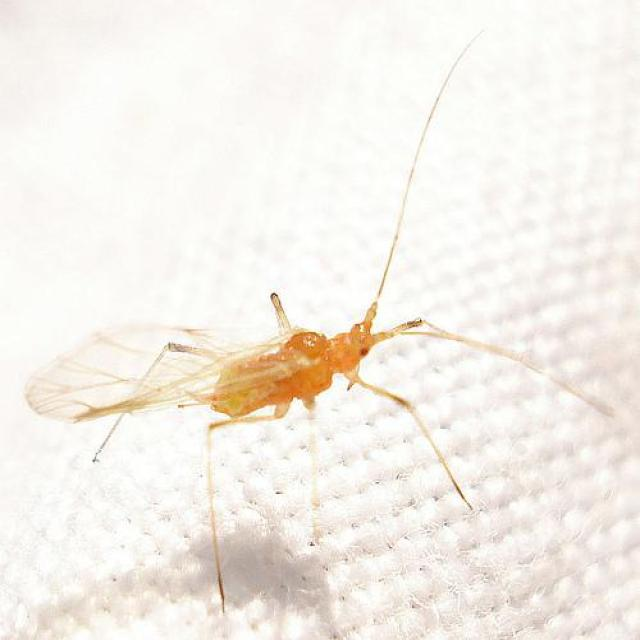Aphids: (45, 173, 584, 586)
